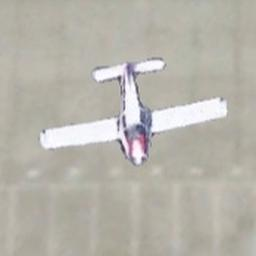Airplane: (38, 56, 228, 166)
